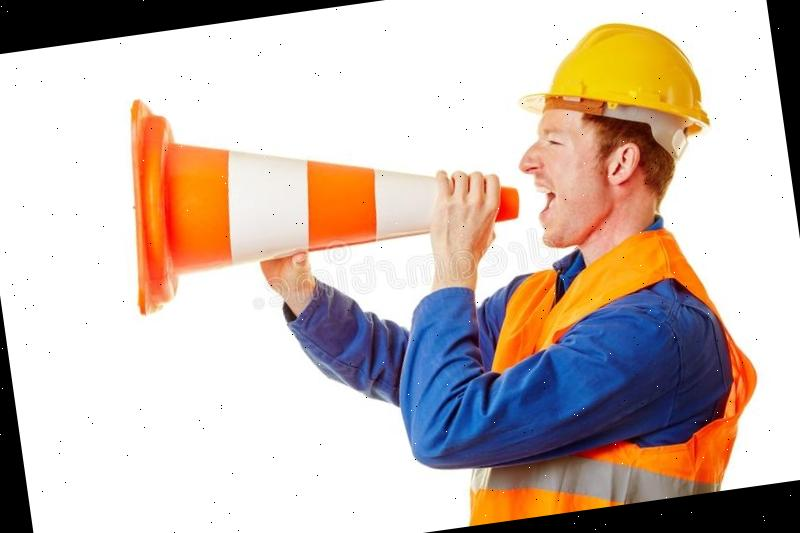helmet: (508, 6, 718, 152)
wear: (439, 238, 766, 526)
